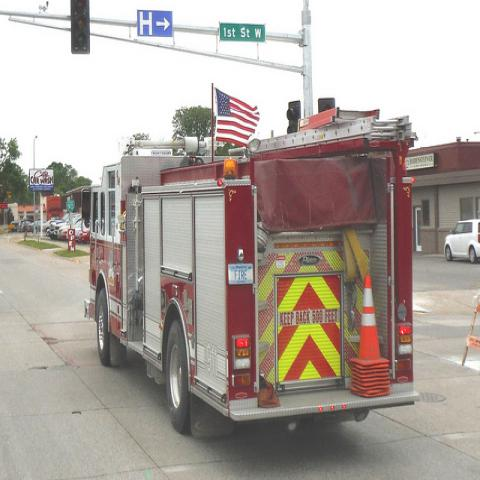car: (444, 220, 480, 263), (53, 213, 82, 240), (57, 219, 80, 240), (72, 218, 87, 237), (77, 227, 91, 244), (42, 219, 54, 237), (49, 222, 58, 240), (30, 221, 40, 235), (21, 222, 31, 232), (60, 229, 68, 240), (19, 220, 24, 233)
truck: (81, 105, 420, 435)
